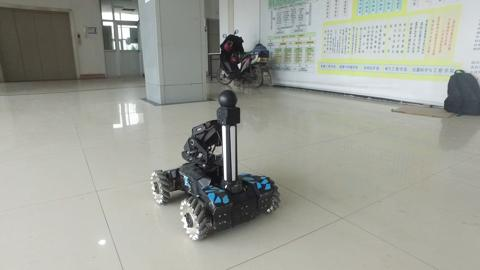bag: (436, 66, 479, 122)
chariot: (143, 90, 285, 244)
